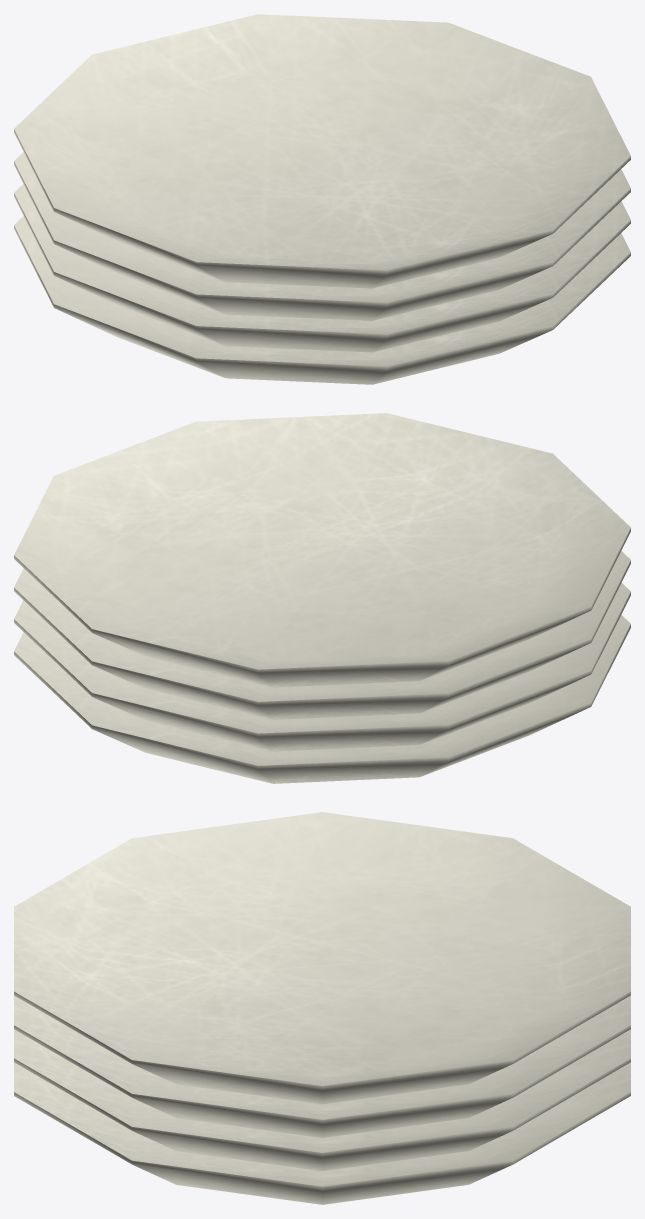
The model's file is dish01b.fbx.
The picture shows the model from 3 angles, top to bottom: view 1: azimuth 30°, elevation 25°; view 2: azimuth 150°, elevation 25°; view 3: azimuth 270°, elevation 25°; orthographic projection. The views are drawn at different scales.
Parts seen in each view (by area): view 1: dish01b; view 2: dish01b; view 3: dish01b.
Part boxes in pixels (bbox=[...]): dish01b: bbox=[14, 14, 630, 384]; dish01b: bbox=[14, 413, 630, 783]; dish01b: bbox=[14, 812, 630, 1204].
Size of the model in its own units: 27.08 by 6.94 by 25.76.
